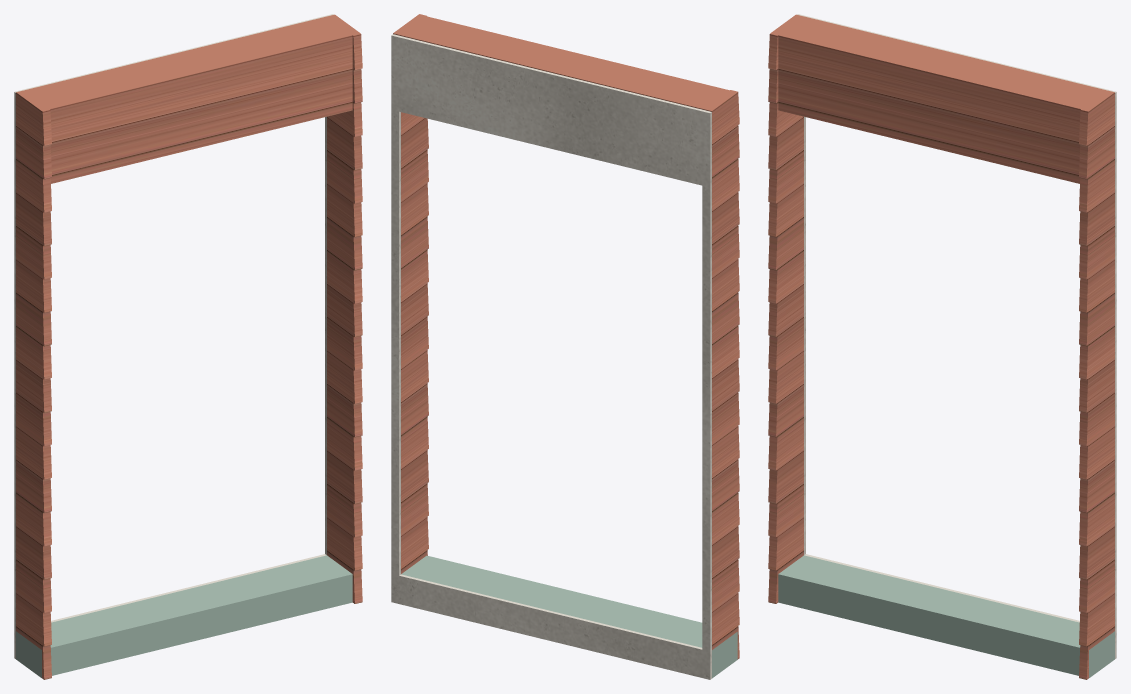
Rendered from f_u_bay_e.glb.
3 renders of one model, left to right at view 1: azimuth 30°, elevation 25°; view 2: azimuth 150°, elevation 25°; view 3: azimuth 330°, elevation 25°, orthographic.
Visible parts, largest first — view 1: f_u_bay_e_siding_e, f_u_bay_e_acc_e, f_u_bay_e_plaster; view 2: f_u_bay_e_plaster, f_u_bay_e_siding_e, f_u_bay_e_acc_e; view 3: f_u_bay_e_siding_e, f_u_bay_e_acc_e, f_u_bay_e_plaster.
Part boxes in pixels (bbox=[...]): f_u_bay_e_siding_e: bbox=[16, 14, 362, 679]; f_u_bay_e_acc_e: bbox=[16, 555, 352, 677]; f_u_bay_e_plaster: bbox=[14, 14, 333, 658]; f_u_bay_e_plaster: bbox=[391, 34, 711, 679]; f_u_bay_e_siding_e: bbox=[393, 14, 739, 659]; f_u_bay_e_acc_e: bbox=[401, 555, 737, 678]; f_u_bay_e_siding_e: bbox=[768, 14, 1114, 679]; f_u_bay_e_acc_e: bbox=[778, 555, 1114, 677]; f_u_bay_e_plaster: bbox=[797, 14, 1116, 658].
Bounding box in the file's own units: 2 × 3.4 × 0.324.
Materials: 3 (2 with a texture image).
